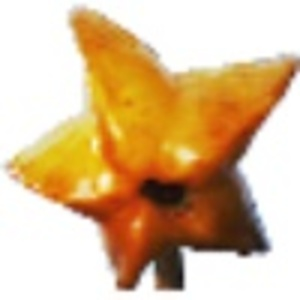carambola: (4, 5, 300, 294)
